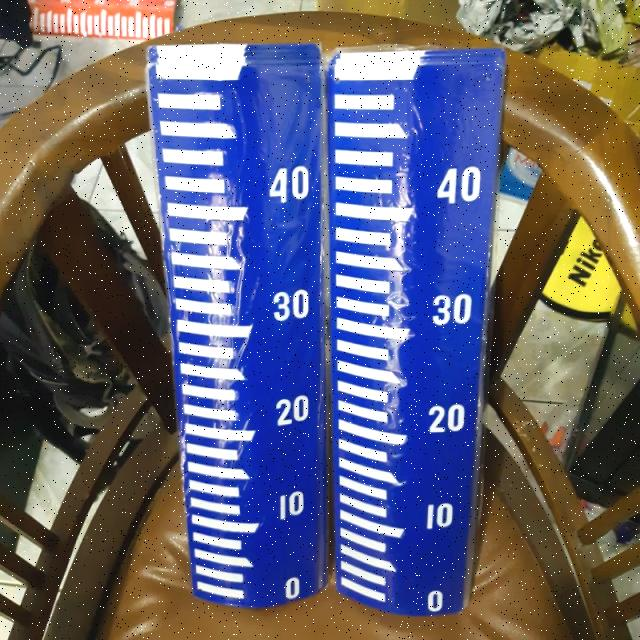10: (422, 496, 462, 536), (275, 486, 310, 528)
20: (271, 388, 315, 432), (423, 400, 467, 441)
30: (426, 287, 478, 332), (266, 282, 312, 328)
40: (431, 159, 483, 210), (262, 162, 316, 209)
staff: (328, 48, 504, 621), (152, 40, 325, 607)
